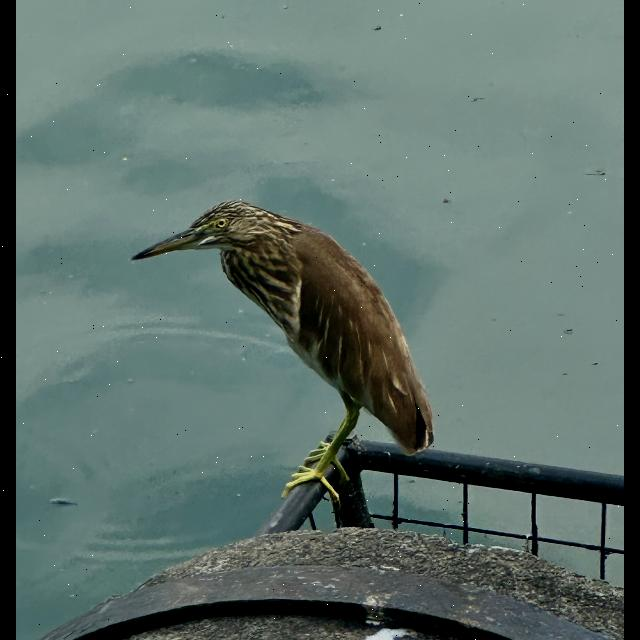heron: (118, 192, 450, 506)
